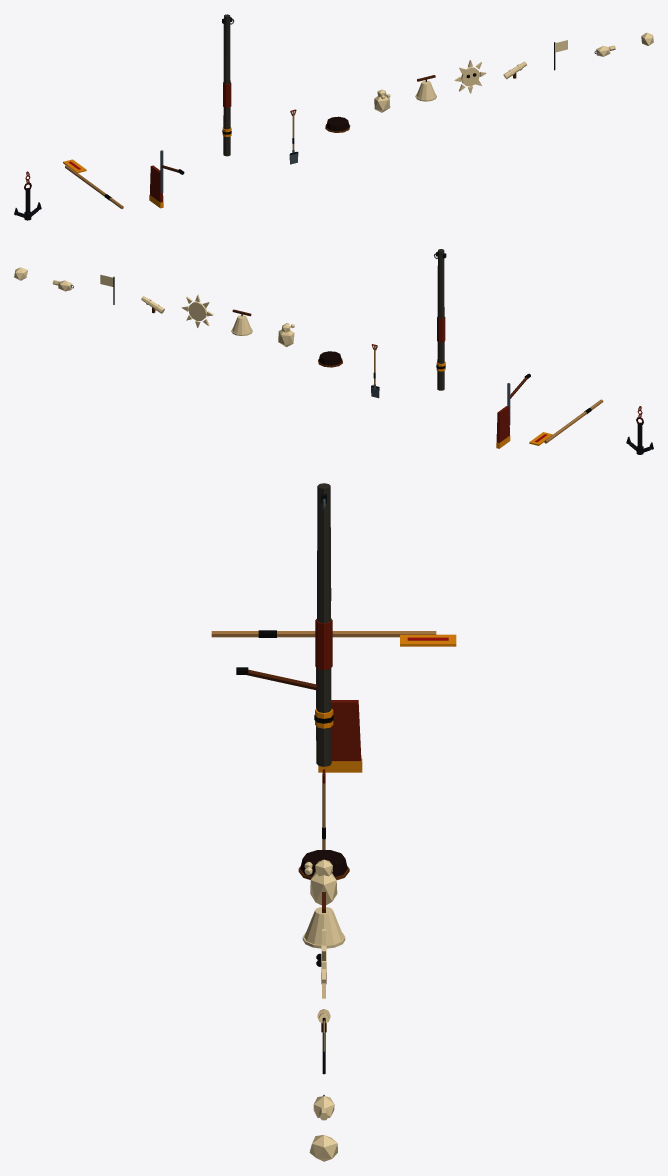
File: tb_fittings_kit.mobile.glb
3 views of the same model, one above another, from view 1: azimuth 30°, elevation 25°; view 2: azimuth 150°, elevation 25°; view 3: azimuth 270°, elevation 25° (orthographic). The views are drawn at different scales.
Visible parts, largest first — view 1: skiff_mast, skiff_rudder, trophy_mask__a, paddle, anchor, trophy_base, trophy_bell__a; view 2: skiff_mast, skiff_rudder, trophy_mask__a, paddle, anchor, trophy_base, trophy_bell__a; view 3: skiff_mast, skiff_rudder, paddle, trophy_bell__a.
Part boxes in pixels (x1,y1,x2,y2): skiff_mast: [222, 14, 234, 156]; skiff_rudder: [149, 150, 184, 208]; trophy_mask__a: [454, 60, 486, 93]; paddle: [63, 159, 123, 209]; anchor: [14, 171, 41, 220]; trophy_base: [325, 116, 350, 132]; trophy_bell__a: [415, 80, 436, 101]; skiff_mast: [434, 249, 446, 390]; skiff_rudder: [496, 373, 530, 448]; trophy_mask__a: [181, 294, 213, 327]; paddle: [529, 399, 603, 445]; anchor: [626, 406, 653, 454]; trophy_base: [318, 351, 342, 367]; trophy_bell__a: [231, 315, 252, 335]; skiff_mast: [314, 483, 333, 766]; skiff_rudder: [236, 667, 362, 772]; paddle: [211, 630, 456, 646]; trophy_bell__a: [302, 907, 345, 948].
Bounding box in the file's own units: 14.42 × 3.78 × 2.39.
